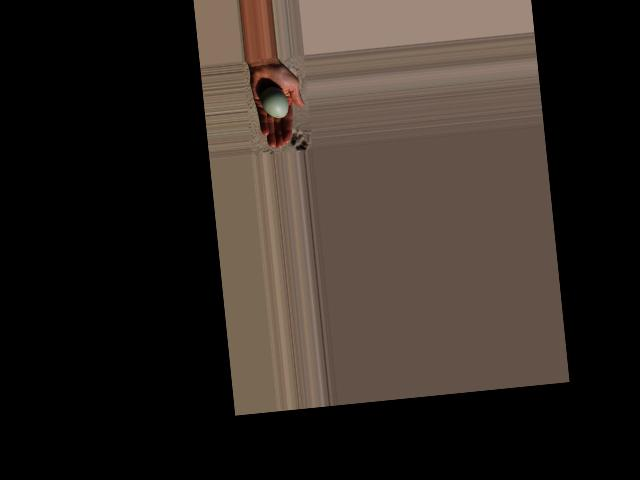egg: (259, 86, 289, 120)
